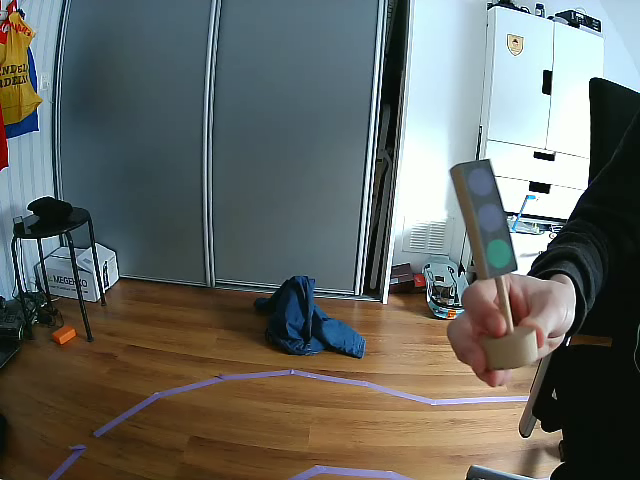groenlicht: (455, 158, 519, 280)
